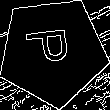P_E: (26, 30, 80, 73)
